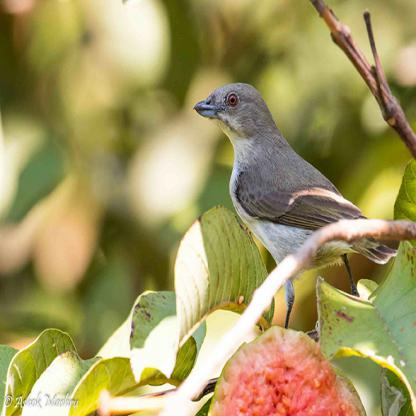Burung: (196, 78, 390, 320)
